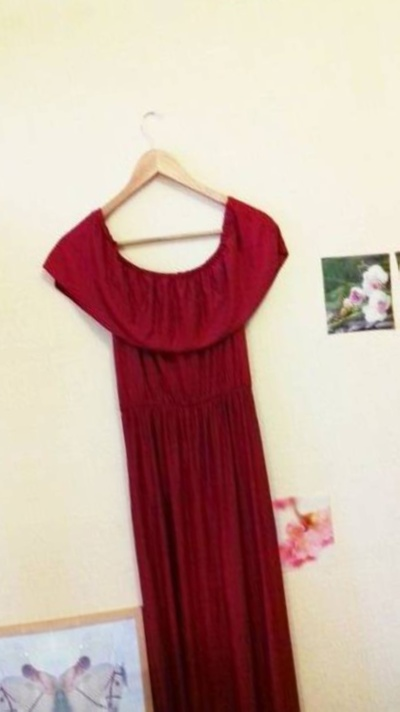Dress: (18, 115, 368, 712), (0, 162, 38, 712)
